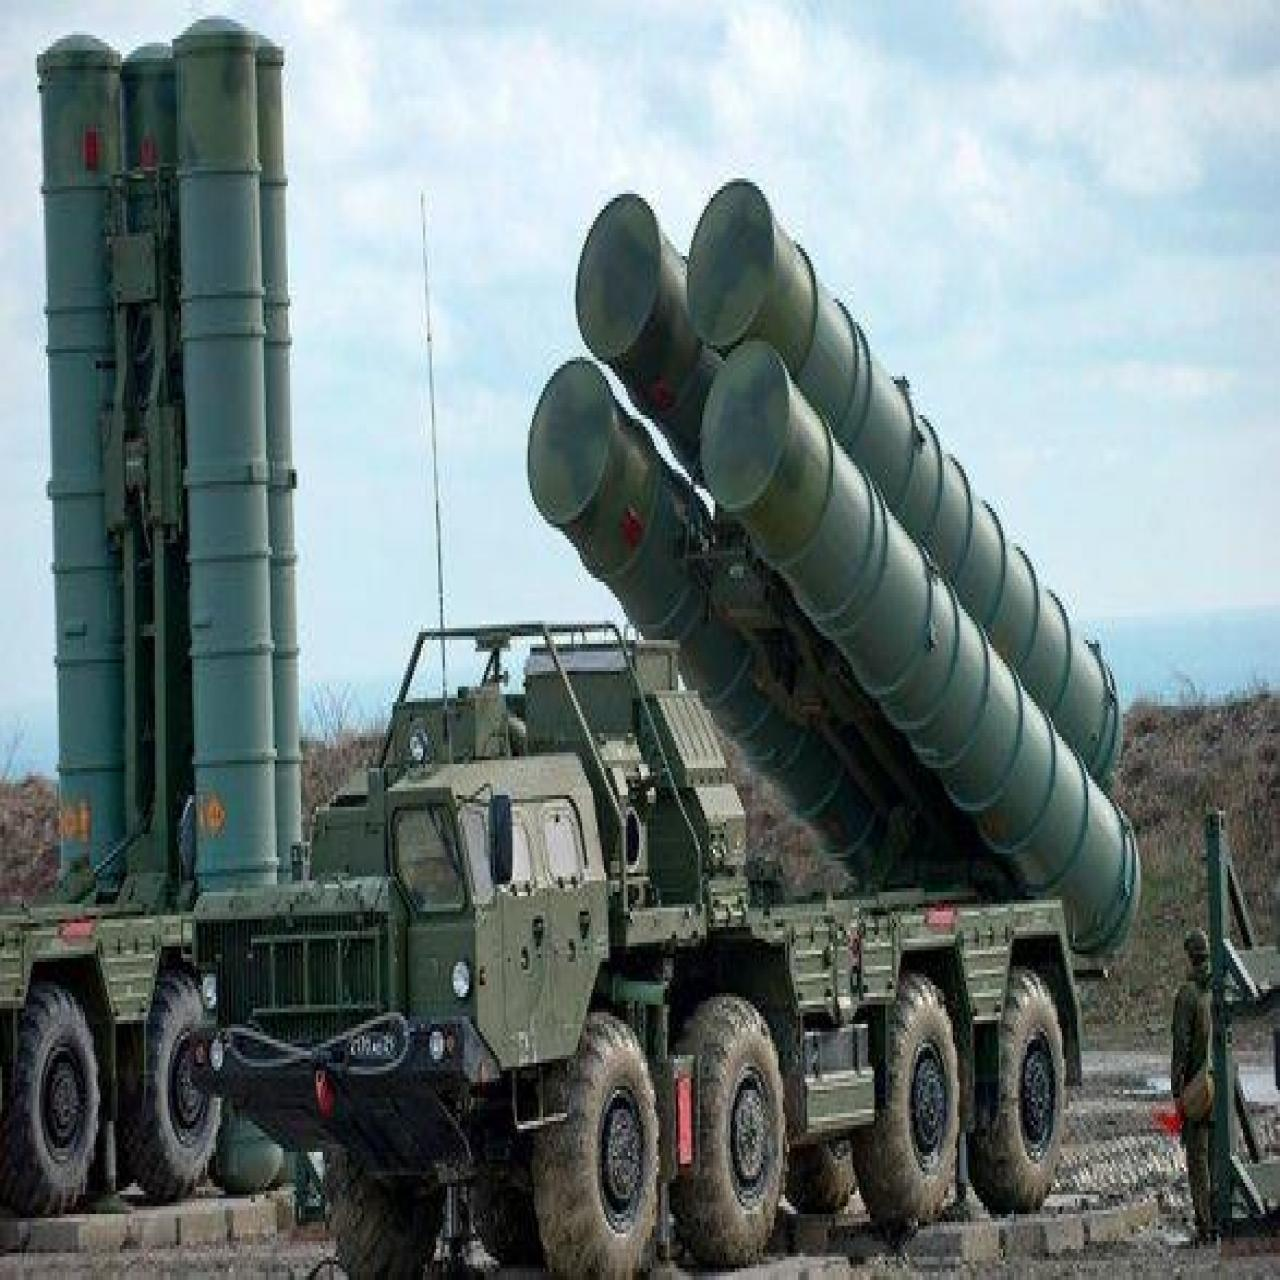MIL_Veh: (188, 173, 1138, 1280), (0, 20, 311, 1219)
